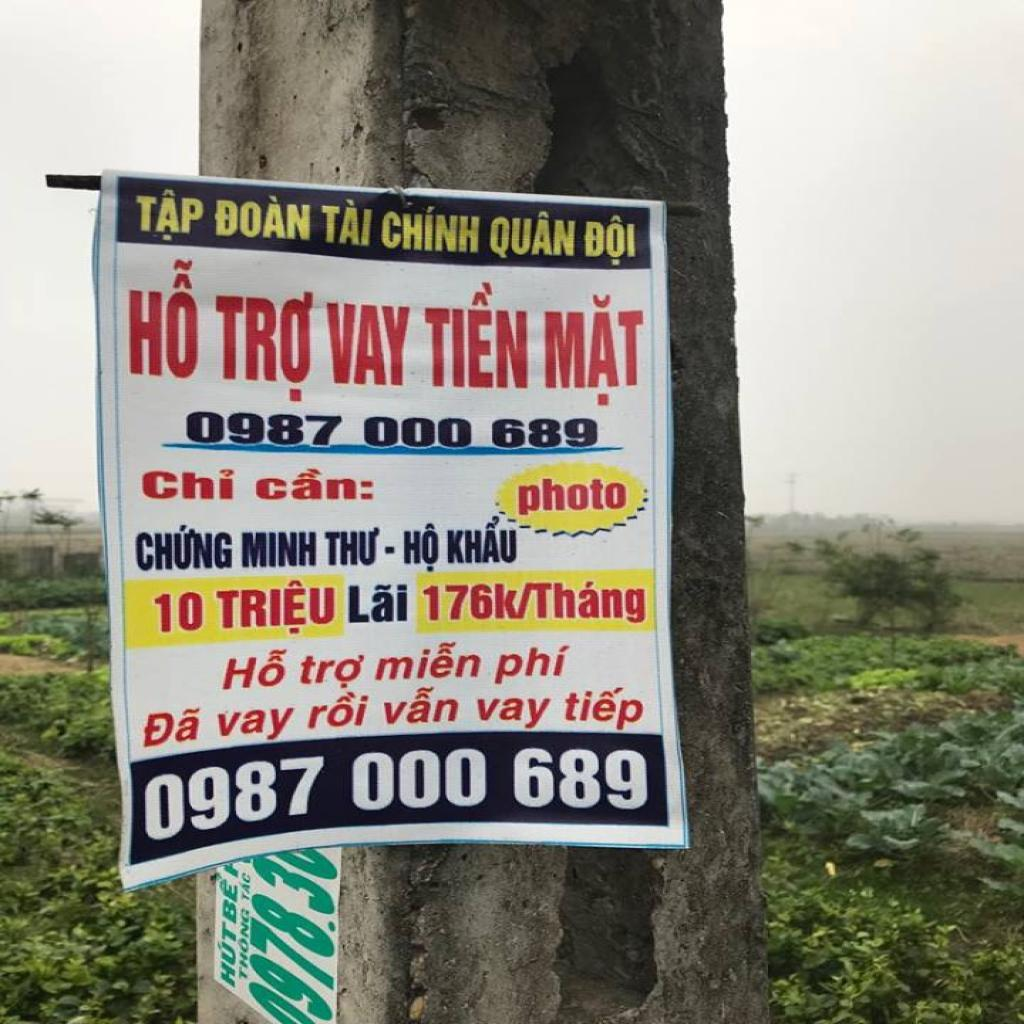text: (142, 751, 336, 849), (210, 284, 322, 407), (242, 885, 340, 1024), (534, 291, 646, 410), (420, 278, 534, 392), (118, 252, 203, 385), (506, 743, 650, 813), (346, 744, 490, 813), (323, 298, 418, 394), (213, 577, 337, 644), (178, 408, 348, 449), (516, 579, 656, 625), (376, 198, 484, 255), (481, 204, 580, 266), (248, 849, 337, 916), (208, 195, 317, 248), (506, 477, 634, 519), (131, 522, 236, 572), (130, 182, 208, 246), (418, 579, 519, 627), (374, 640, 484, 684), (560, 686, 656, 735), (489, 636, 576, 689), (373, 682, 472, 728), (353, 412, 472, 450), (248, 468, 378, 502), (481, 415, 606, 450), (135, 464, 242, 503), (444, 516, 525, 566), (215, 644, 296, 692), (236, 527, 320, 571), (582, 212, 646, 268), (343, 576, 411, 628), (139, 701, 208, 752), (296, 648, 371, 694), (213, 703, 299, 743), (318, 195, 377, 251), (472, 693, 555, 732), (306, 691, 377, 733), (320, 524, 384, 570), (235, 871, 259, 988), (149, 588, 208, 634), (209, 916, 243, 988), (400, 523, 444, 575)
